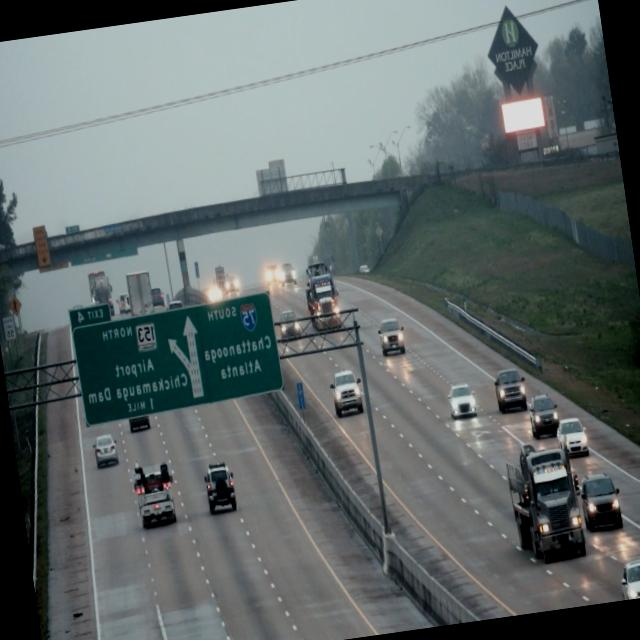Vehicle: (505, 440, 584, 566), (577, 469, 626, 539), (130, 461, 180, 528), (300, 256, 342, 330), (552, 406, 592, 461), (326, 364, 366, 419), (200, 460, 238, 516), (491, 362, 531, 414), (526, 389, 560, 442), (446, 376, 478, 428), (374, 315, 408, 361), (616, 554, 640, 600), (92, 432, 120, 470)
